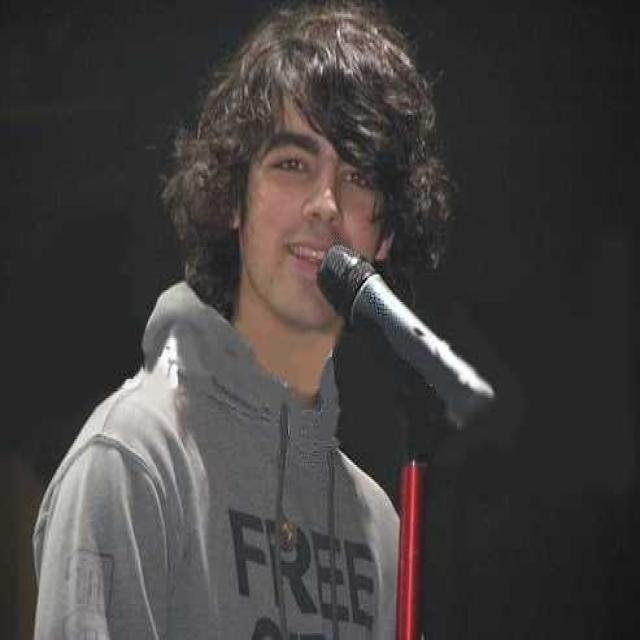microphone: (319, 236, 507, 444)
